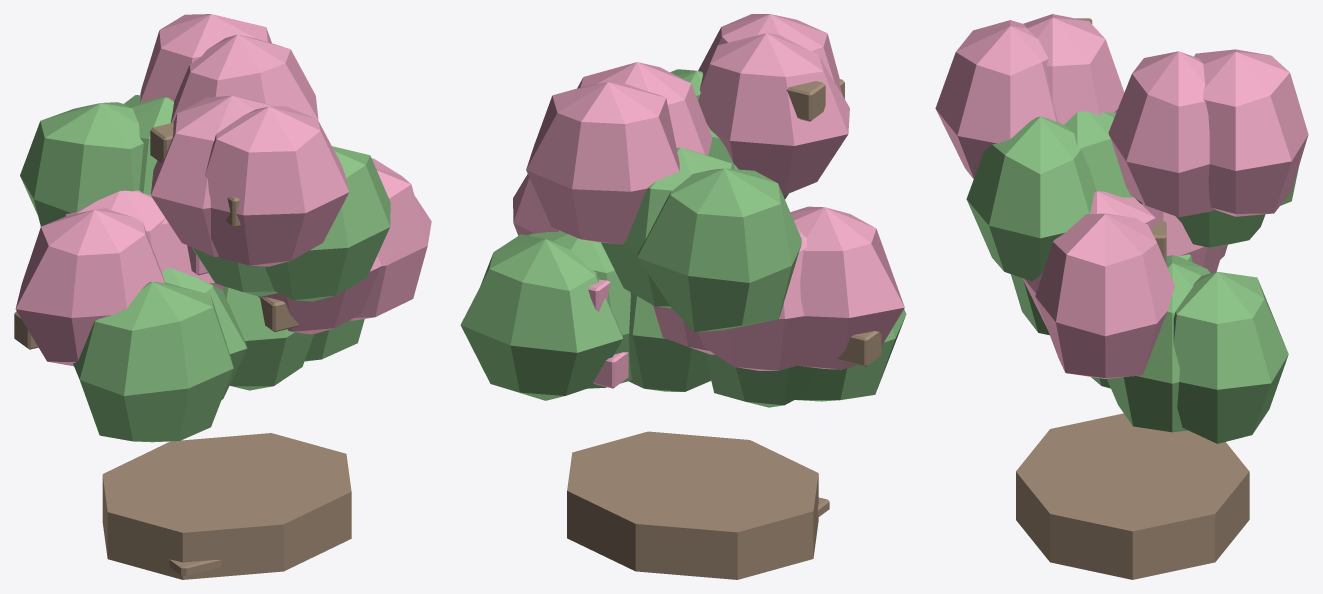
The model's file is b08_tulip_cluster.glb.
3 views of the same model, side by side, from view 1: azimuth 30°, elevation 25°; view 2: azimuth 150°, elevation 25°; view 3: azimuth 270°, elevation 25° (orthographic). The views are drawn at different scales.
Visible parts, largest first — view 1: b08_tulip_cluster; view 2: b08_tulip_cluster; view 3: b08_tulip_cluster.
Boxes of the visible parts, x1,y1,x2,y2 form: b08_tulip_cluster: [14, 14, 431, 579]; b08_tulip_cluster: [460, 14, 906, 579]; b08_tulip_cluster: [935, 14, 1308, 579].
Bounding box in the file's own units: 0.551 × 0.617 × 0.43.
